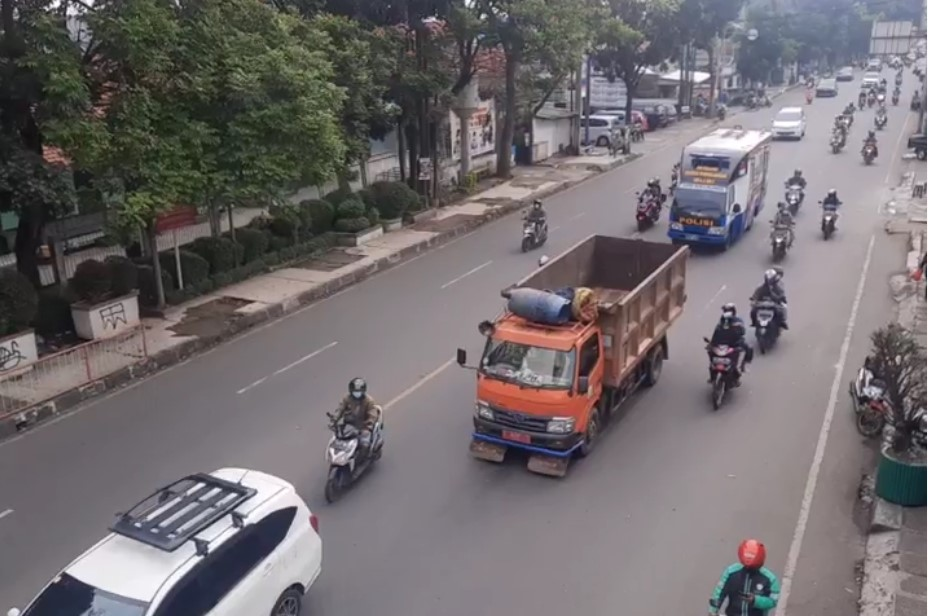motor: (319, 378, 390, 507), (701, 298, 754, 417), (744, 266, 793, 355), (623, 180, 665, 228), (769, 205, 799, 264), (518, 200, 550, 255), (780, 167, 808, 213), (821, 191, 842, 239)
